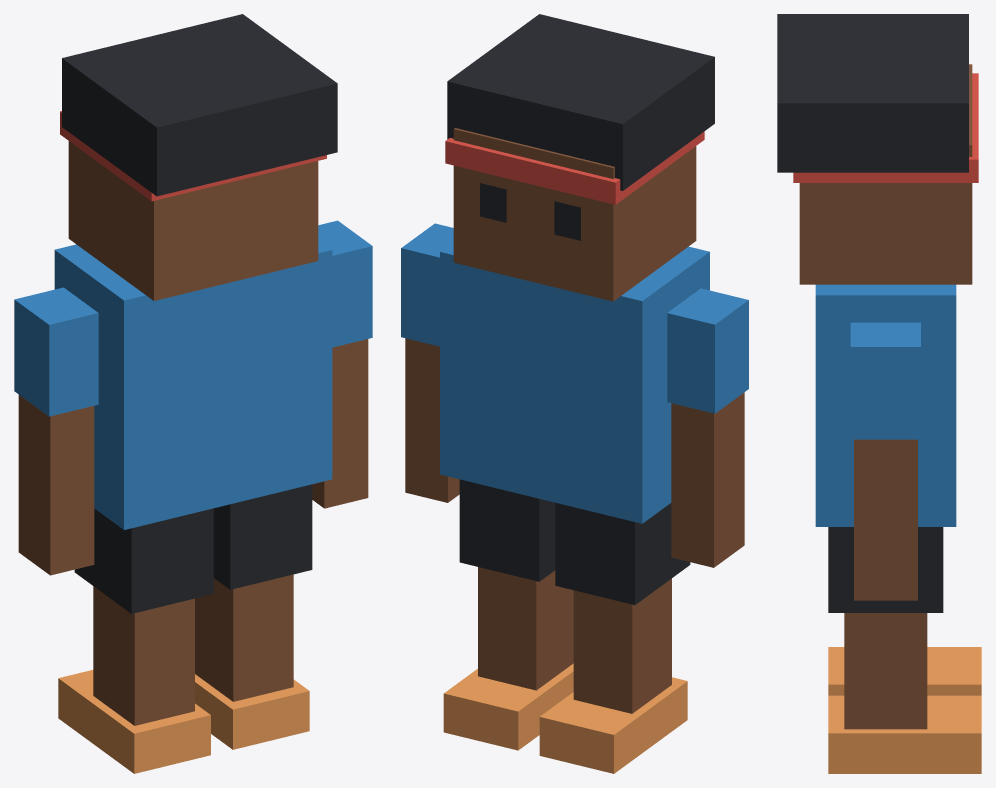
The model's file is H_JoggerM.fbx.
3 renders of one model, left to right at view 1: azimuth 30°, elevation 25°; view 2: azimuth 150°, elevation 25°; view 3: azimuth 270°, elevation 25°, orthographic. The views are drawn at different scales.
Visible parts, largest first — view 1: H_JoggerM; view 2: H_JoggerM; view 3: H_JoggerM.
Part boxes in pixels (x1,y1,x2,y2): H_JoggerM: (14, 14, 372, 773); H_JoggerM: (401, 14, 748, 773); H_JoggerM: (777, 14, 981, 773).
Bounding box in the file's own units: 0.59 × 1.16 × 0.32.
